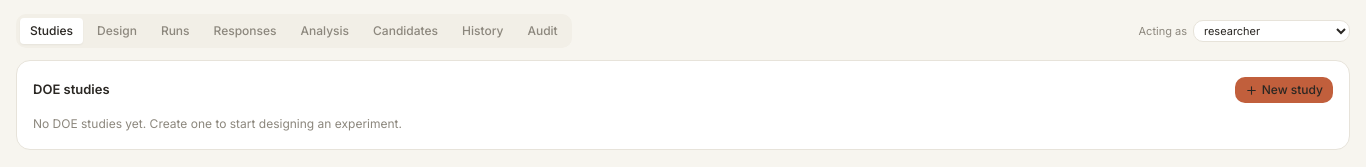
Test: DoePanel — studies list and empty state › prompts to select a study first when a non-Studies tab is opened with nothing selected
Click the button "Runs": (175,31) [151,18,200,44]
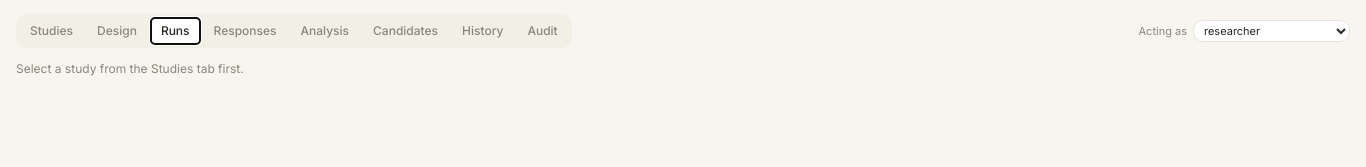
Now the text "Select a study from the Studies tab first." is shown, box [16,61,244,76]
